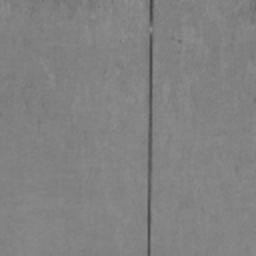Scratches: (146, 3, 154, 256)
